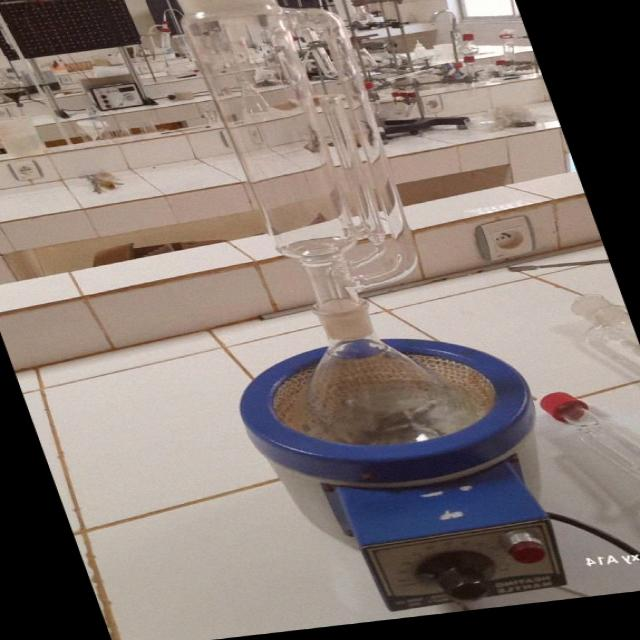Soxhlet: (117, 0, 486, 445)
